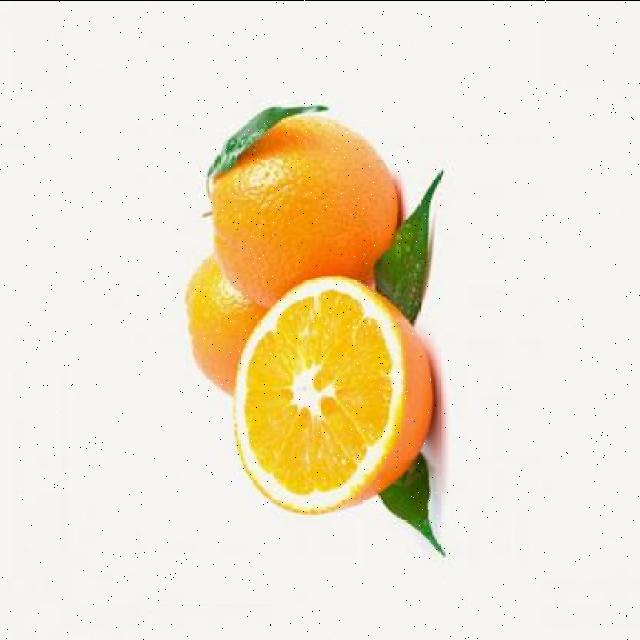Orange: (231, 275, 434, 517), (202, 106, 400, 309), (182, 254, 268, 397)
